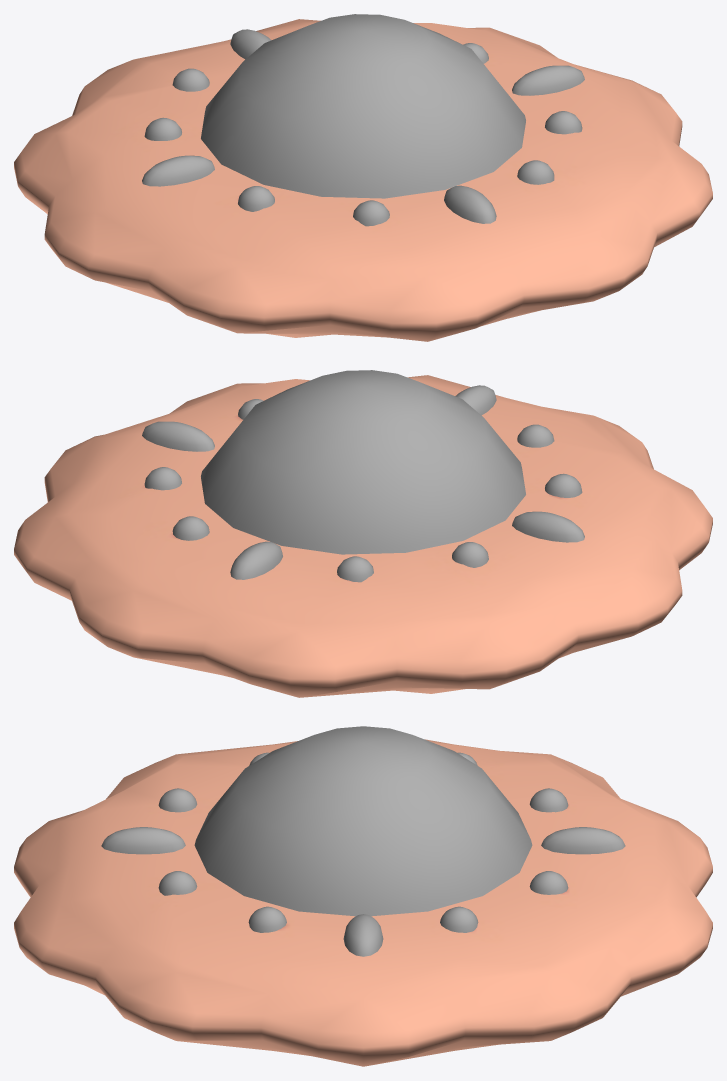
File: CookieUFO.fbx
3 views of the same model, one above another, from view 1: azimuth 30°, elevation 25°; view 2: azimuth 150°, elevation 25°; view 3: azimuth 270°, elevation 25° (orthographic). The views are drawn at different scales.
Visible parts, largest first — view 1: Bisket1; view 2: Bisket1; view 3: Bisket1.
Boxes of the visible parts, x1,y1,x2,y2 form: Bisket1: [14, 14, 712, 341]; Bisket1: [14, 370, 712, 697]; Bisket1: [14, 726, 712, 1066].
Size of the model in its own units: 2109 by 663 by 2037.
